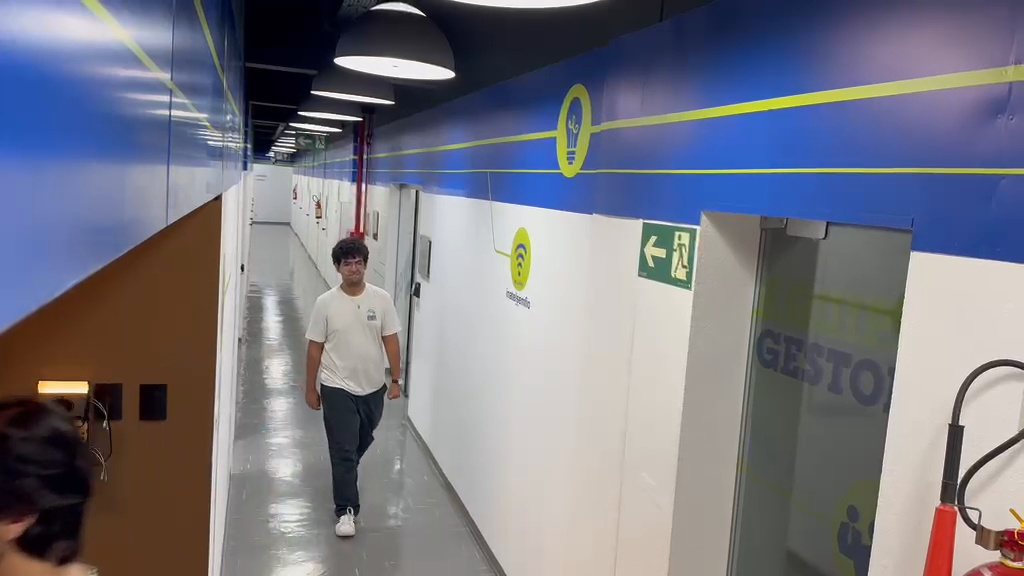person: (303, 236, 402, 539), (1, 399, 105, 574)
